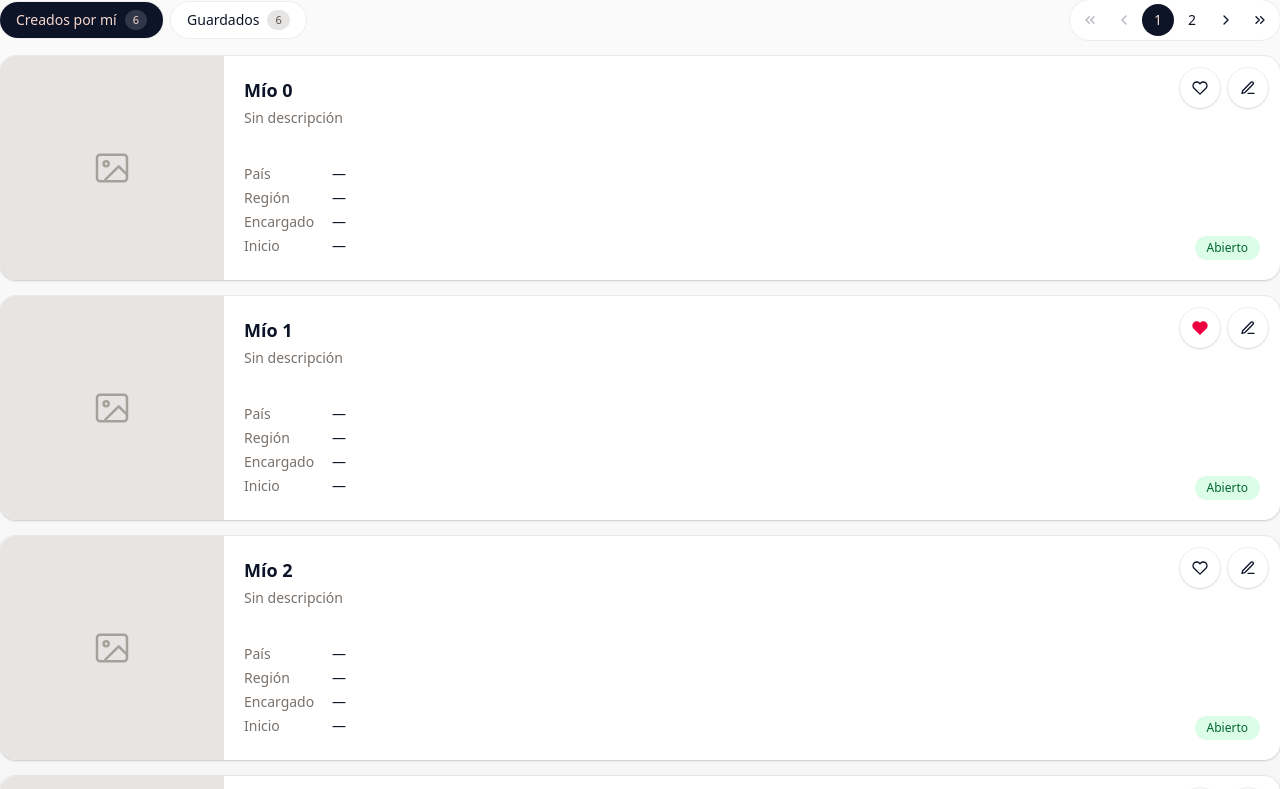
ProjectsSection › starts the other list on its first page
This screenshot has width=1280, height=789.
Later steps or results of the test are not shown.
Expected: the link "Mío 0" is shown, [244, 78, 293, 102]
Click the button named "Página siguiente" at (1226, 20), box [1210, 4, 1242, 36]
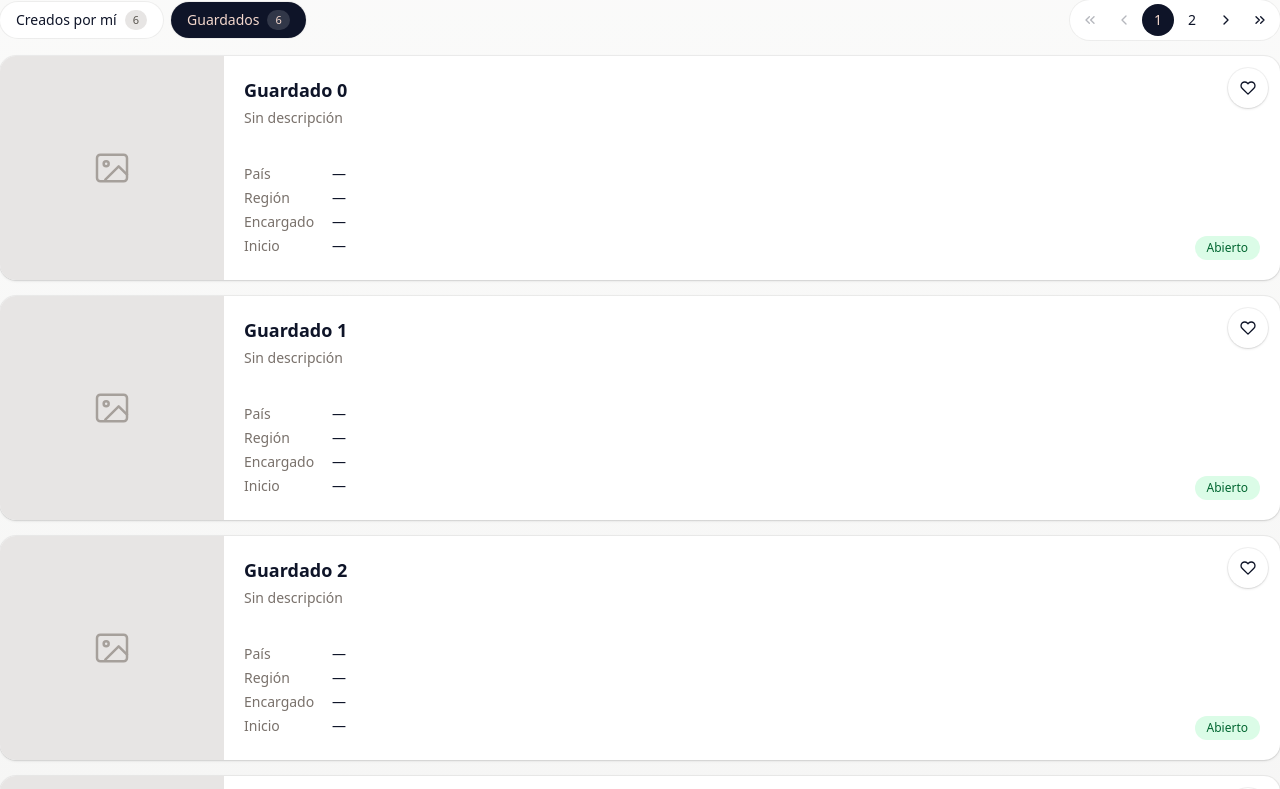
Expected: the link "Guardado 0" is shown, [244, 78, 347, 102]
